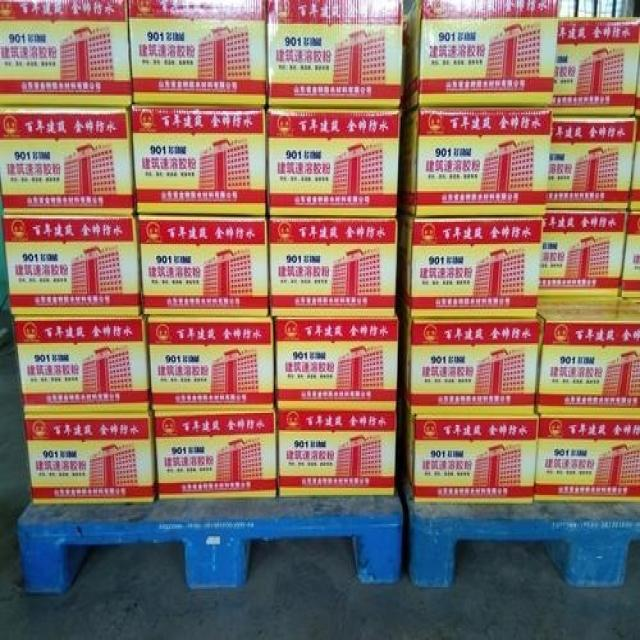box: (403, 0, 558, 118), (399, 108, 553, 217), (396, 215, 543, 319), (0, 106, 136, 215), (268, 0, 403, 109), (131, 106, 266, 215), (128, 0, 266, 106), (266, 108, 402, 215), (1, 213, 142, 316), (0, 2, 133, 106), (137, 212, 270, 316), (13, 316, 151, 413), (403, 319, 540, 416), (270, 217, 398, 316), (406, 411, 538, 505), (536, 297, 640, 416), (146, 316, 275, 410), (23, 413, 157, 503), (152, 408, 276, 500), (278, 404, 396, 497), (275, 317, 398, 406), (534, 415, 640, 503), (547, 116, 639, 212), (553, 17, 640, 118), (539, 212, 628, 297), (621, 212, 640, 297), (628, 119, 640, 210), (634, 46, 640, 116)
